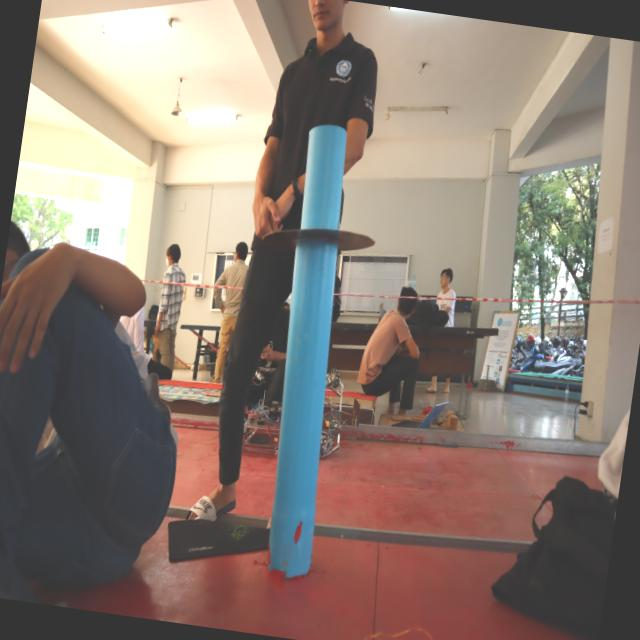pole: (240, 112, 402, 348)
